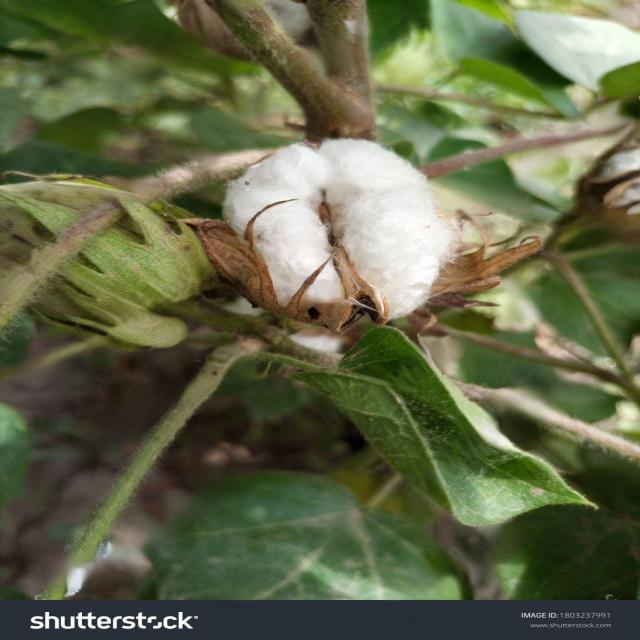Leaf: (170, 110, 497, 342)
